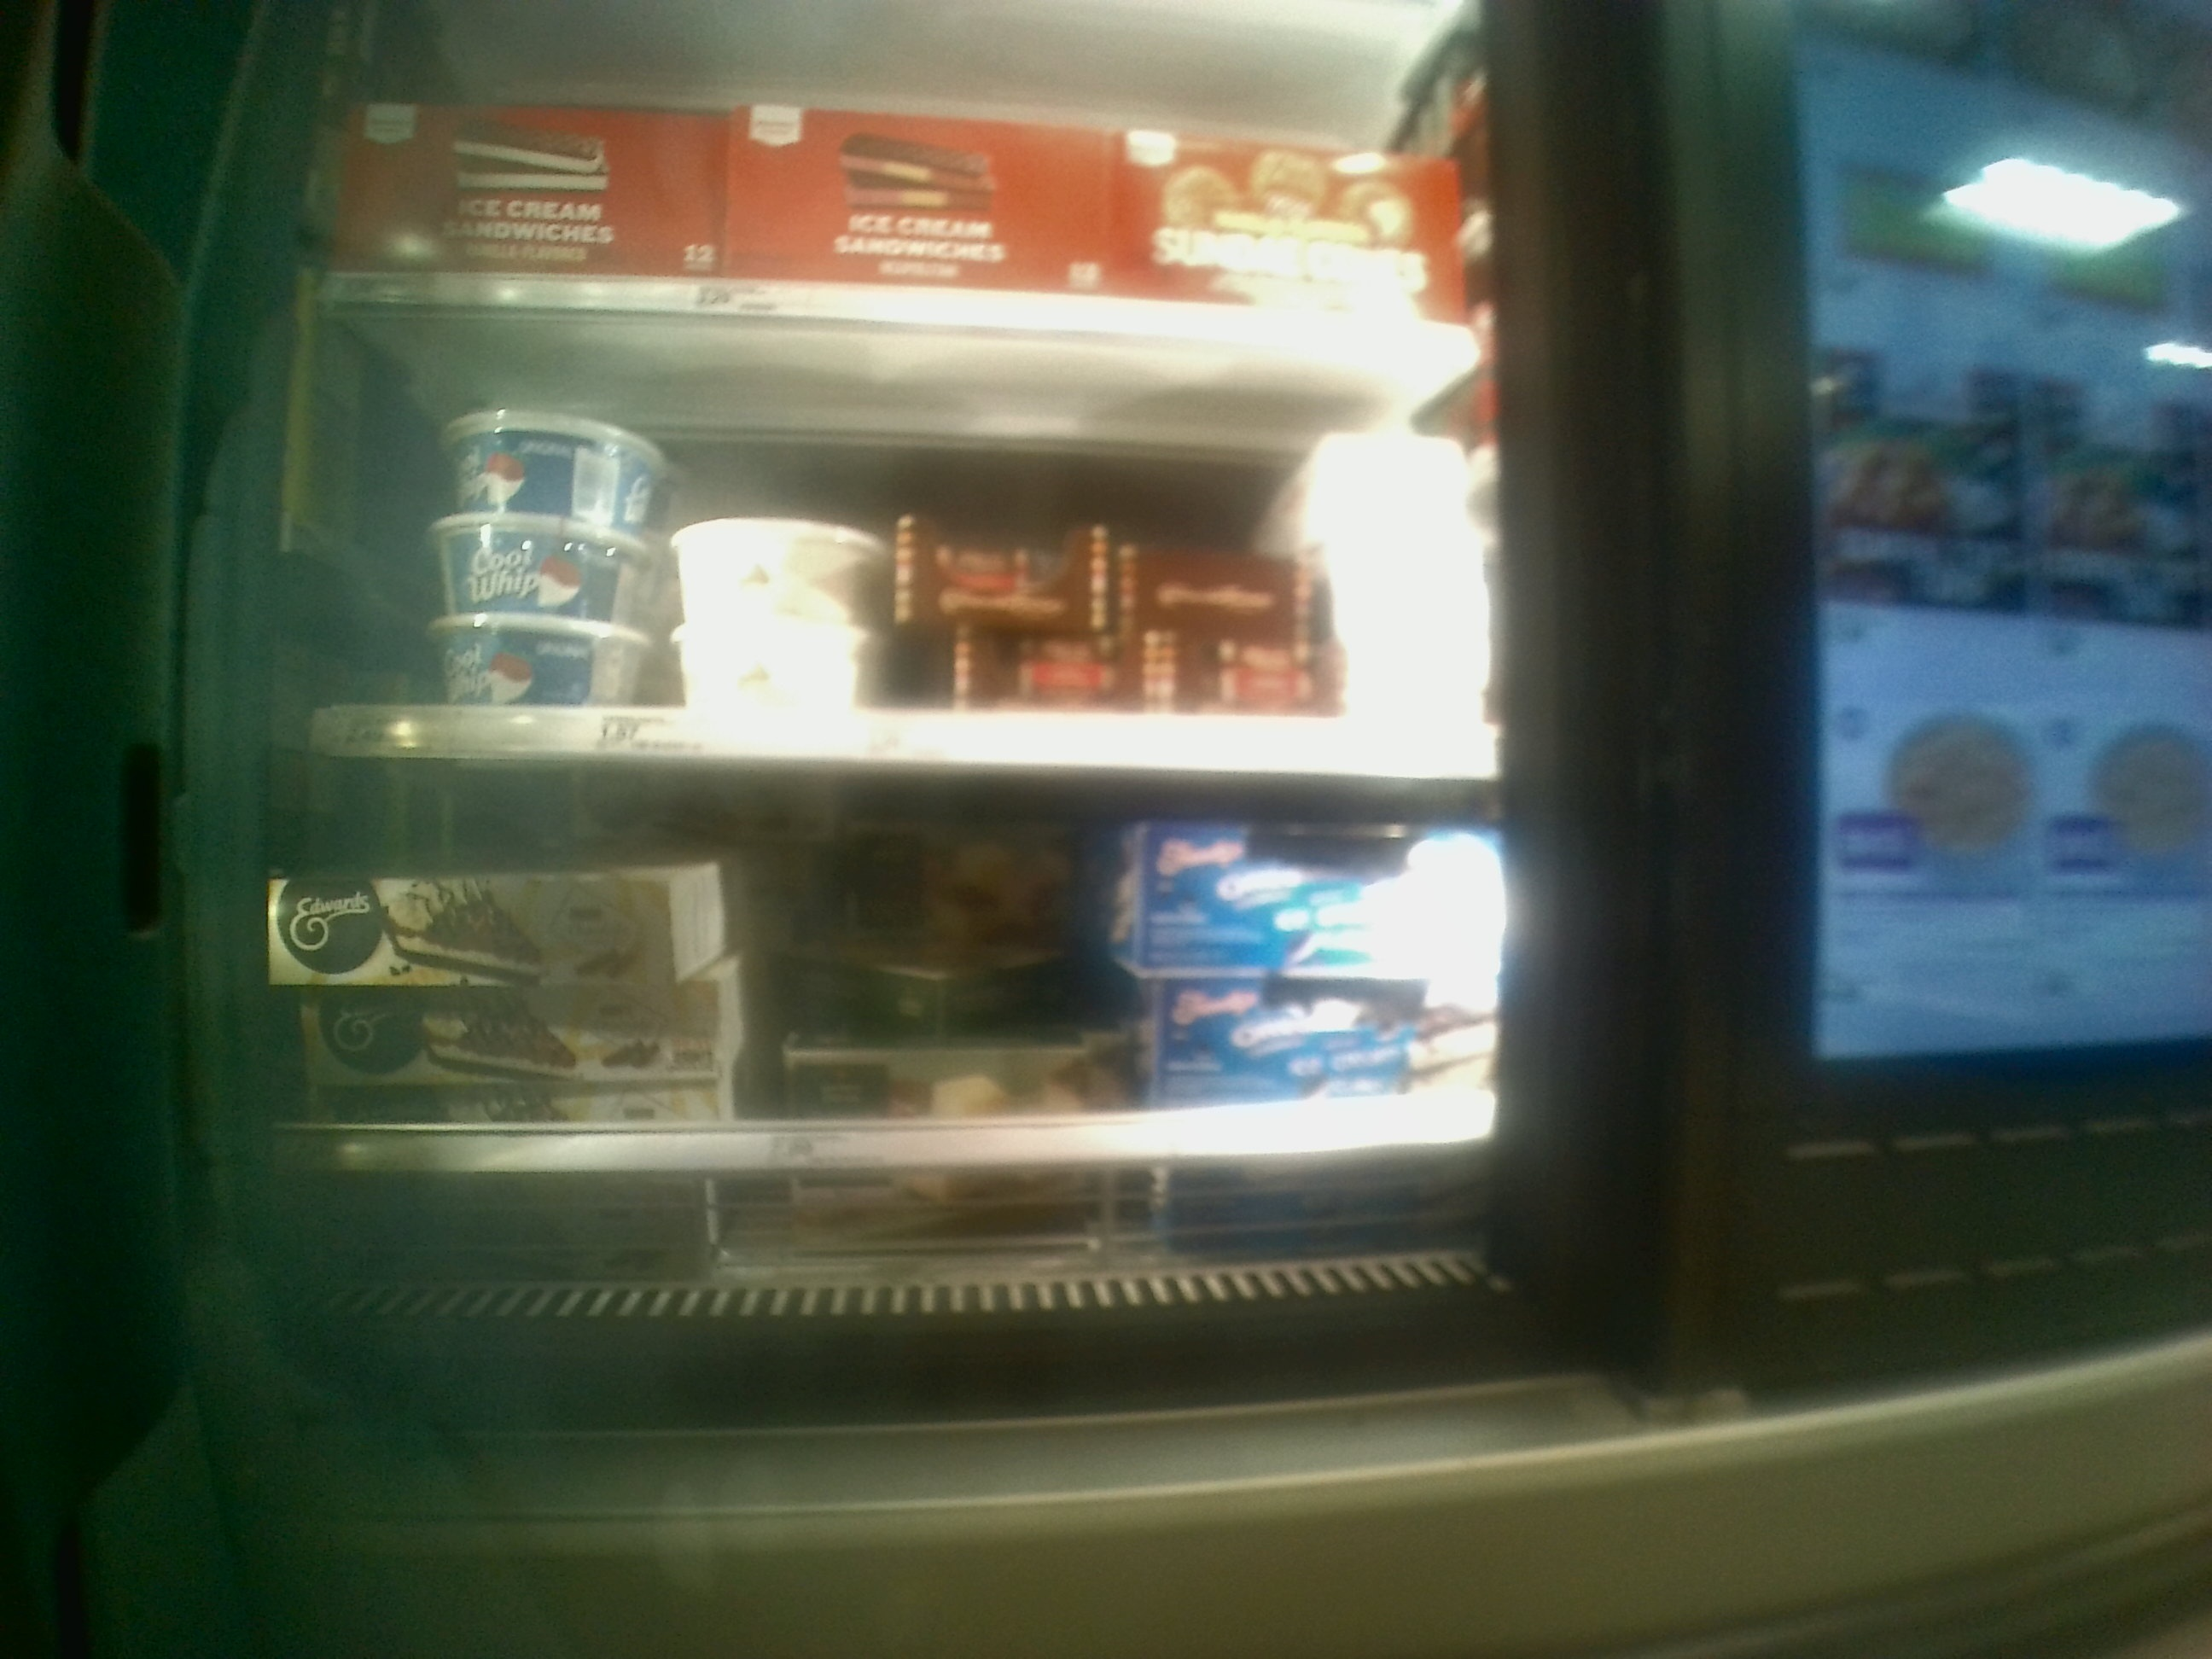frozen-food-shelf: (273, 347, 1519, 788), (233, 788, 1545, 1161)
